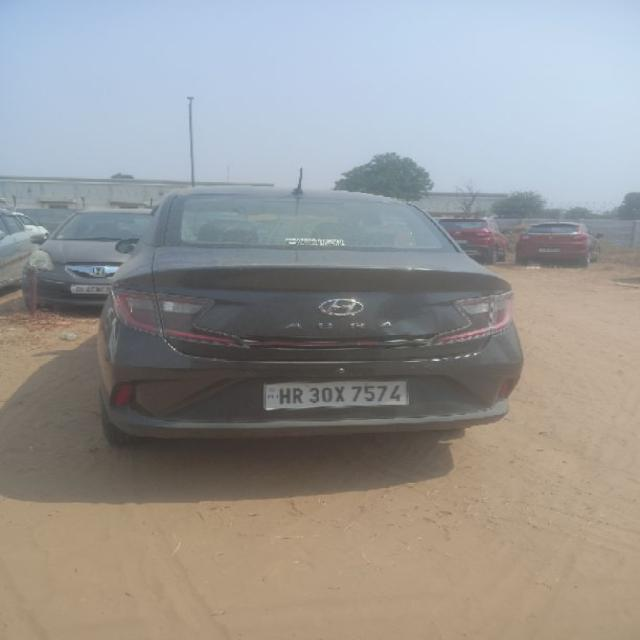license_plate: (261, 379, 409, 411)
